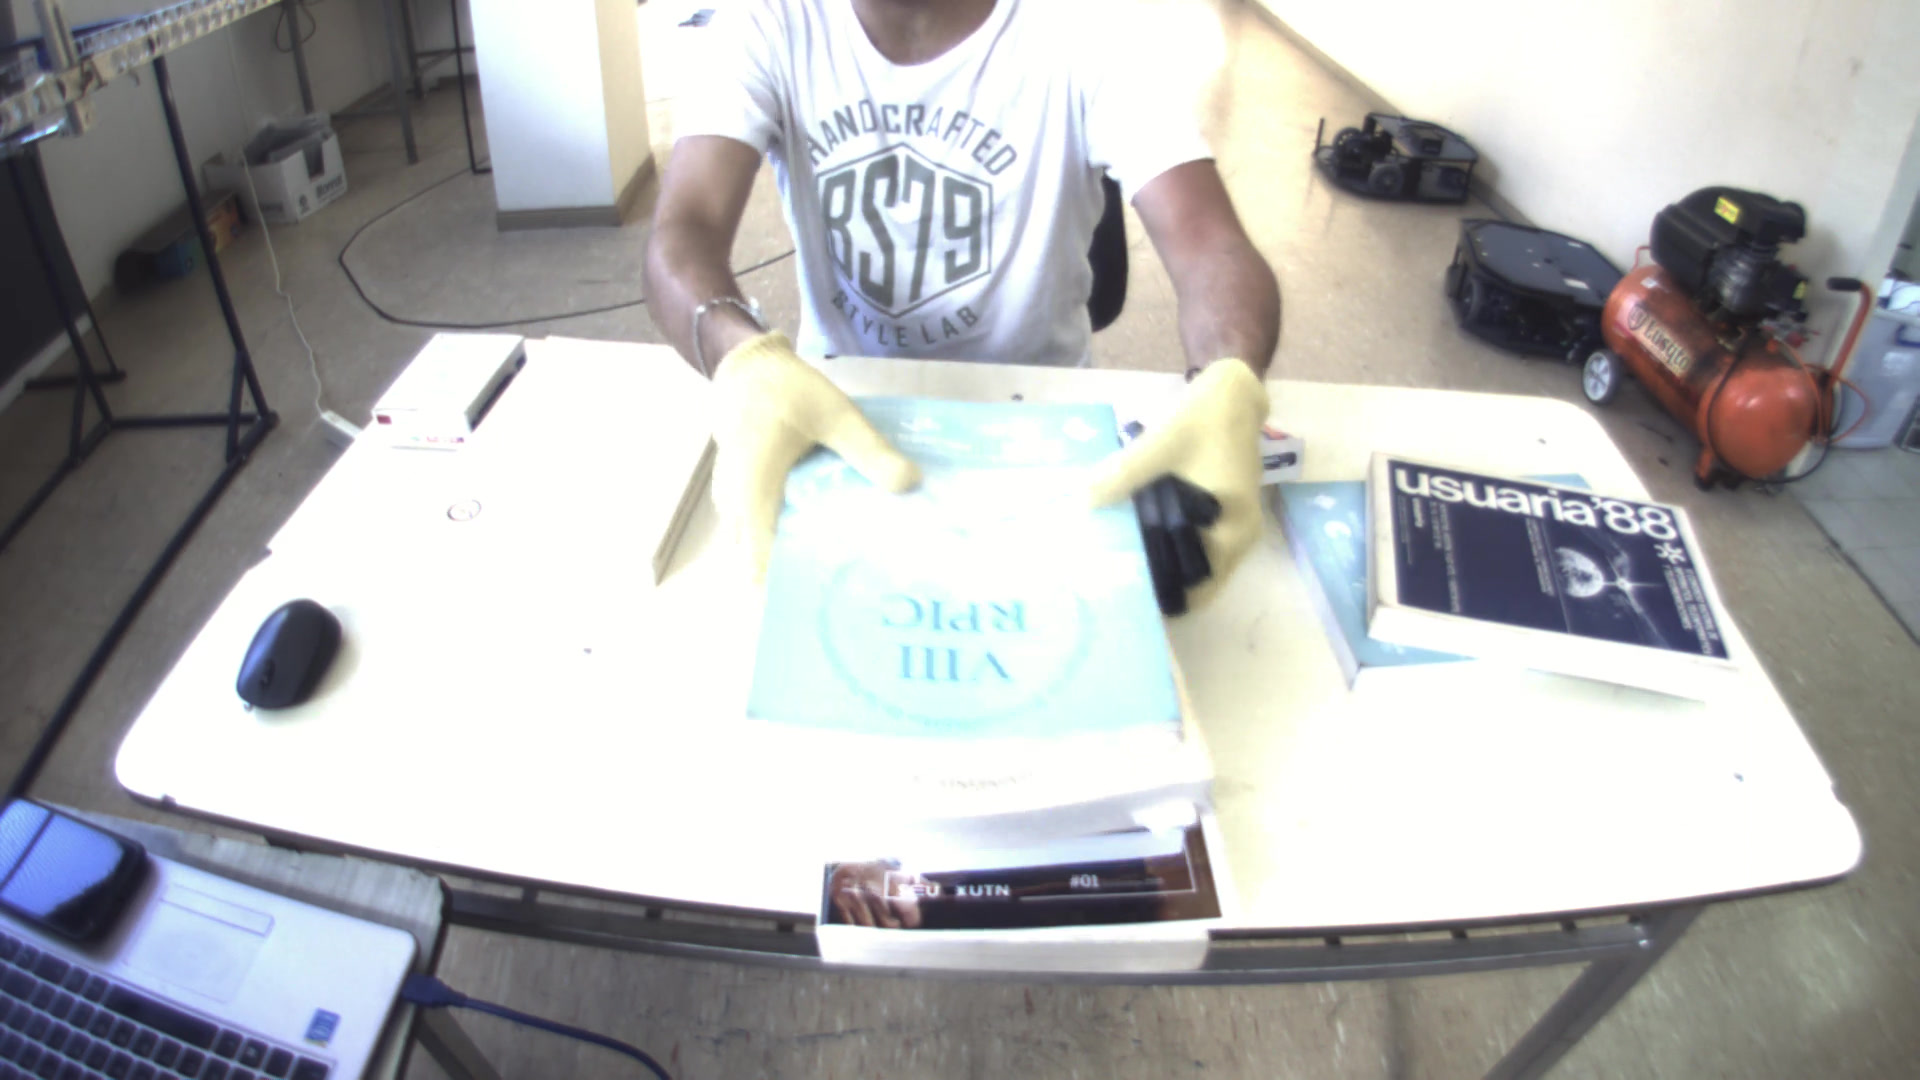hand: (705, 313, 920, 584), (1075, 355, 1274, 624)
